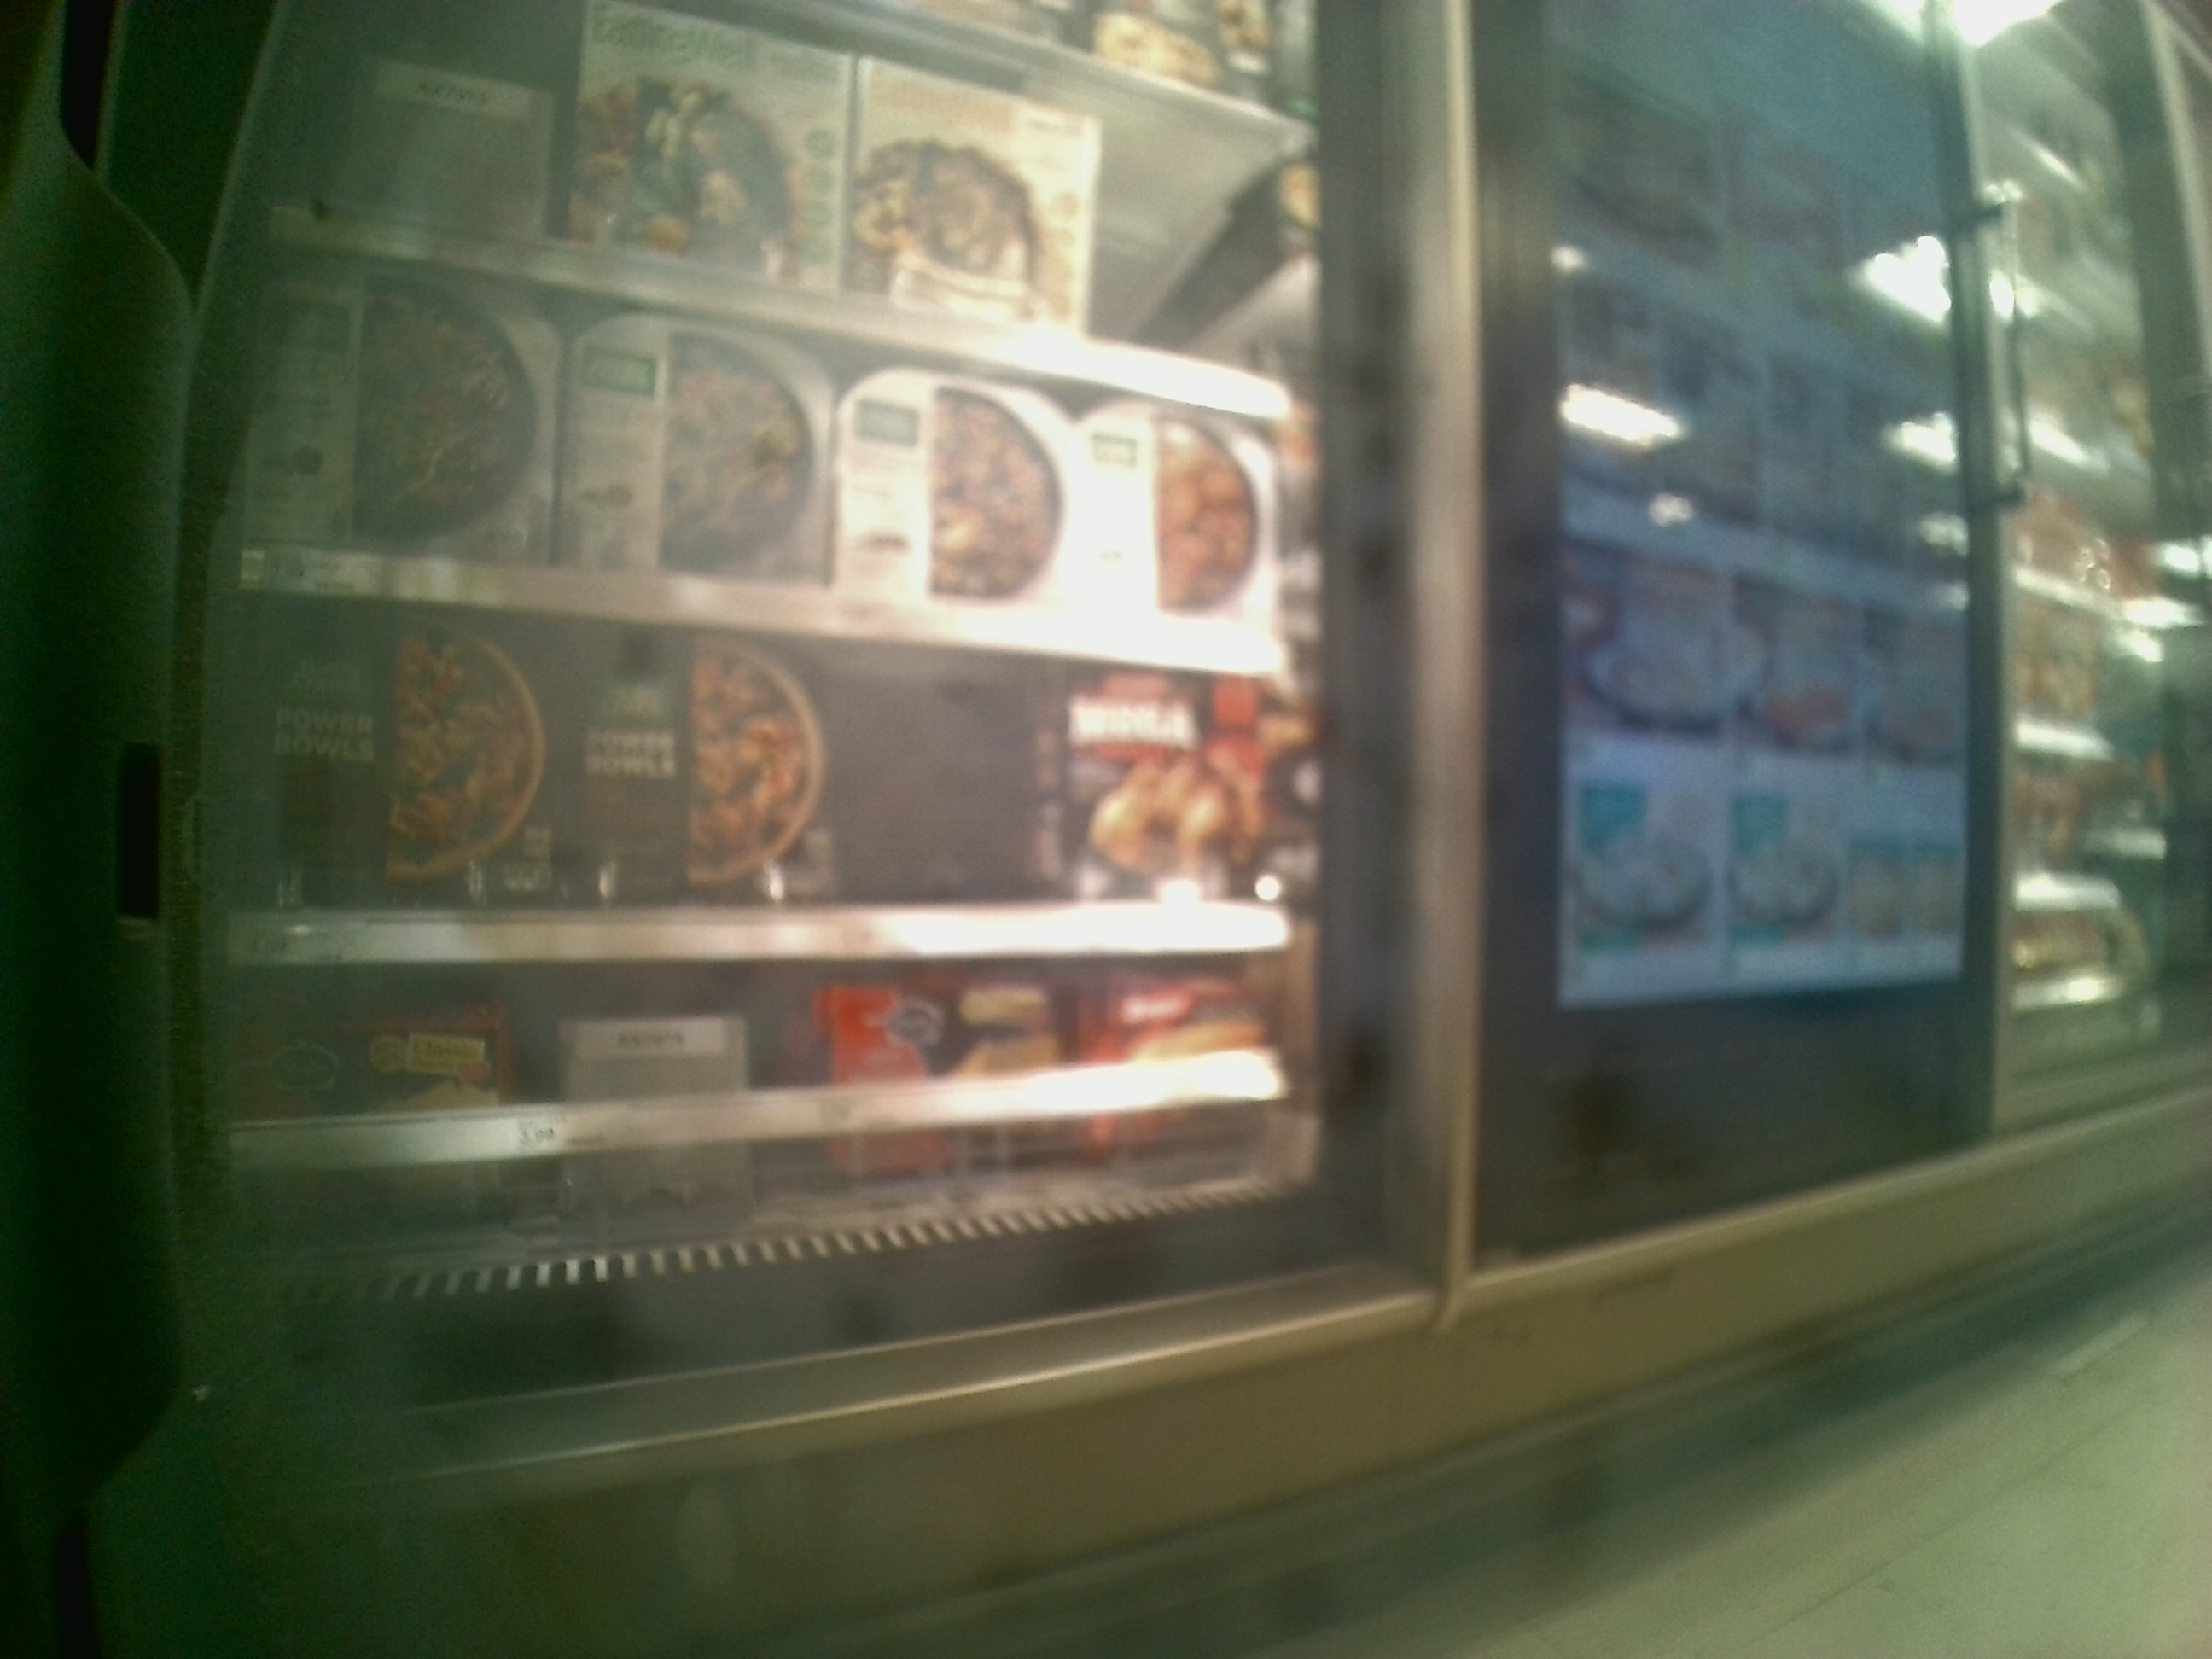shelf: (239, 234, 1308, 674), (228, 587, 1318, 962)
